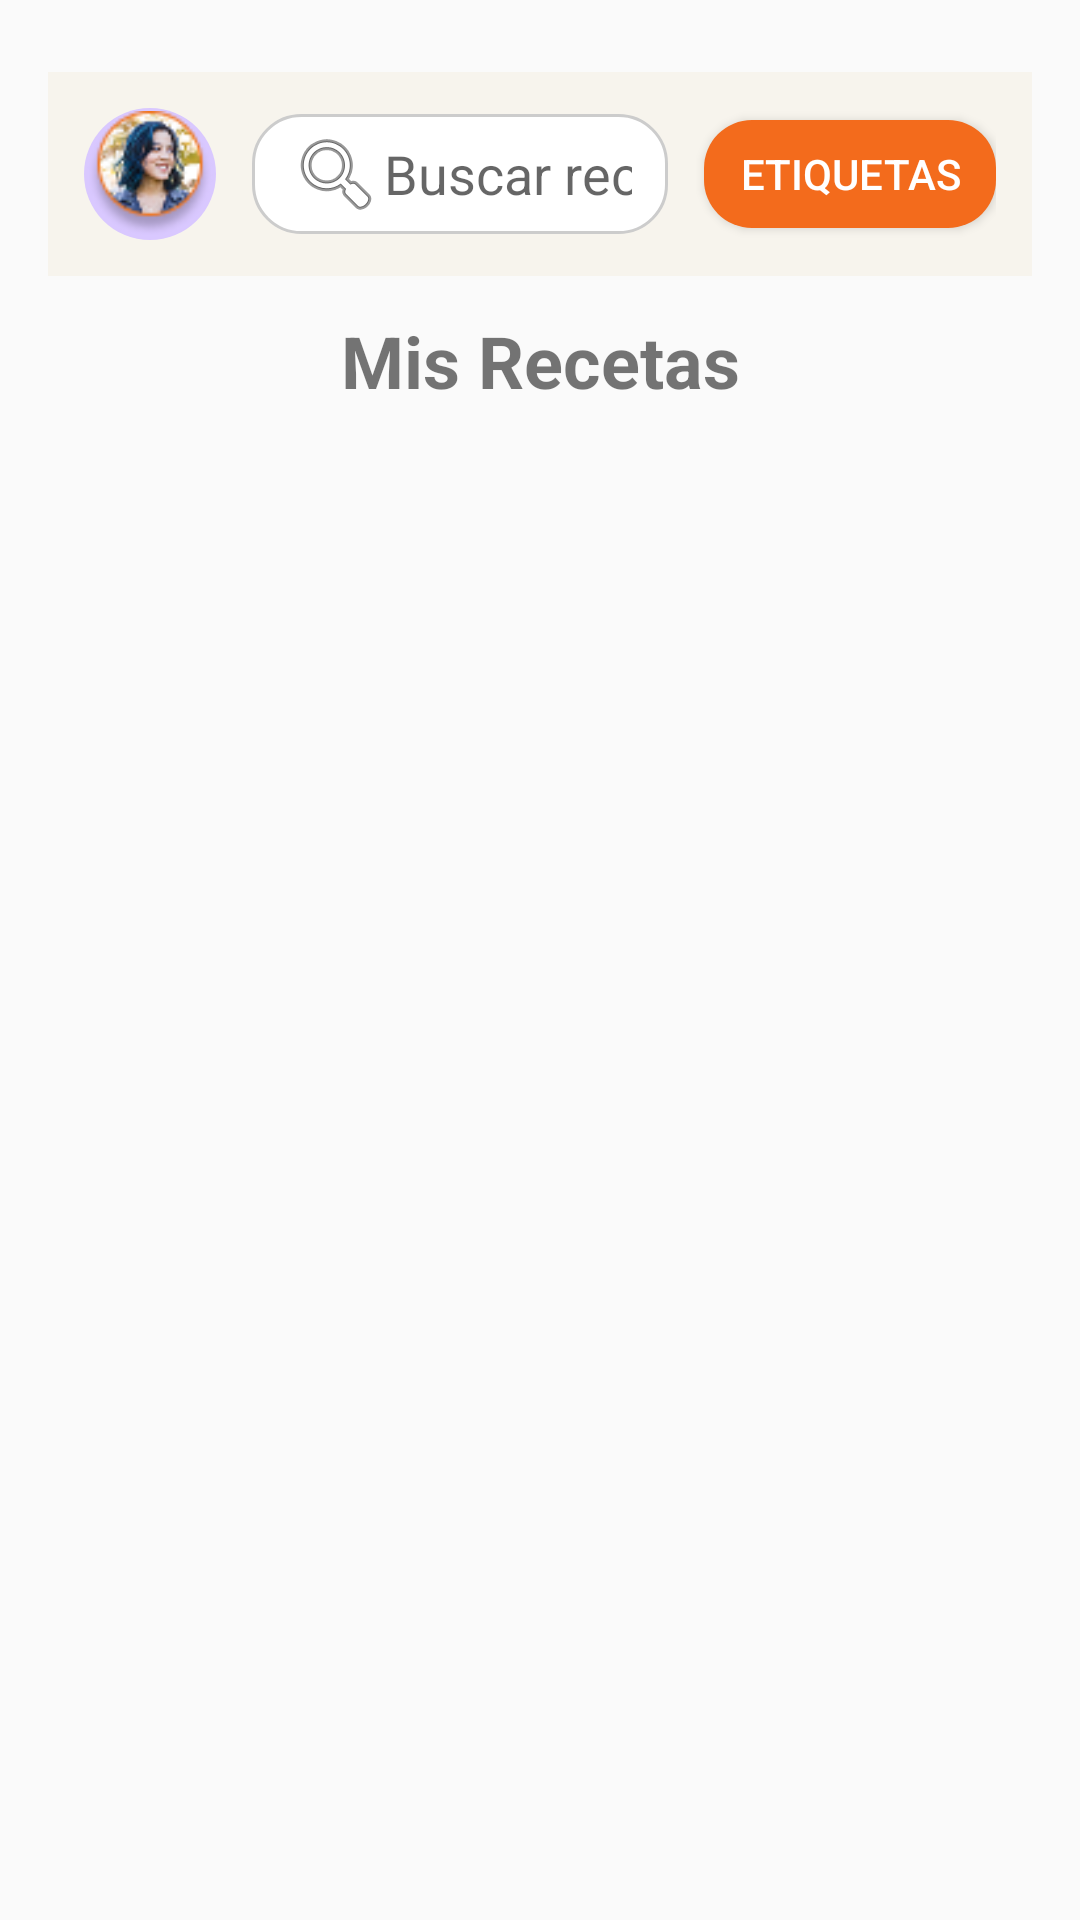

Named icons in this screenshot (1080*1920) and their centers, [x,y]:
Imagen de perfil: [150,174]
